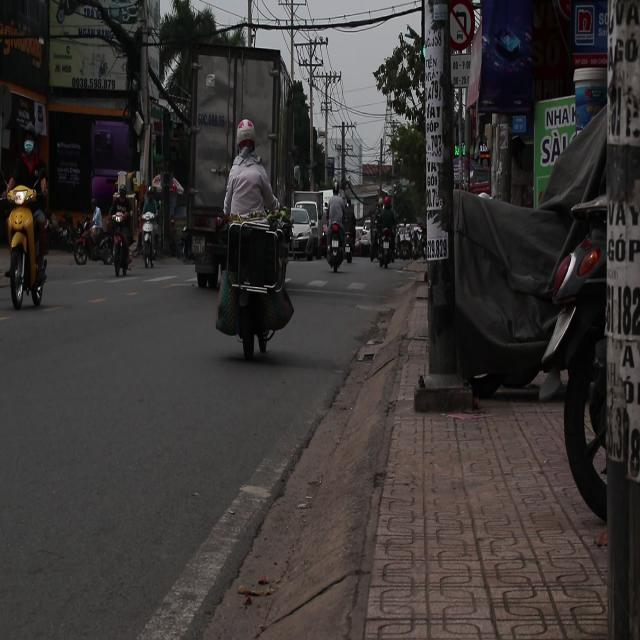car: (290, 200, 322, 260)
motorbike: (214, 208, 294, 357), (1, 189, 50, 311), (67, 199, 117, 271), (108, 212, 138, 289), (370, 215, 401, 288), (321, 212, 351, 276), (138, 205, 162, 275)
truck: (189, 34, 309, 284)
